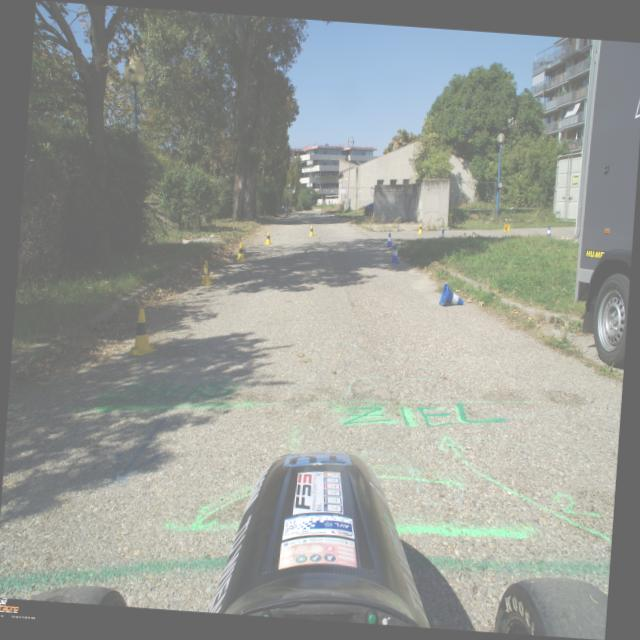blue_cone: (437, 284, 464, 306), (389, 244, 402, 264), (386, 232, 394, 247), (546, 225, 551, 236), (440, 229, 445, 238)
yellow_cone: (125, 306, 160, 358), (197, 260, 214, 286), (236, 242, 247, 262), (263, 230, 272, 246), (416, 223, 424, 234), (307, 224, 314, 236), (502, 224, 510, 232)
